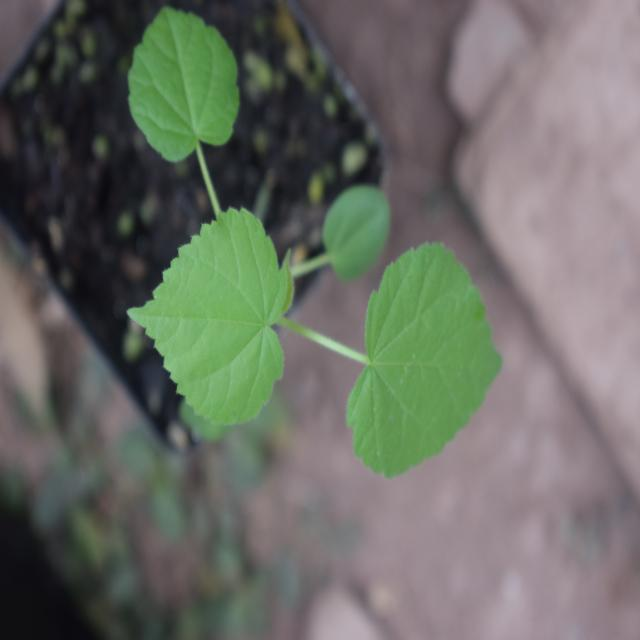abutilon theophrasti: (116, 13, 498, 473)
